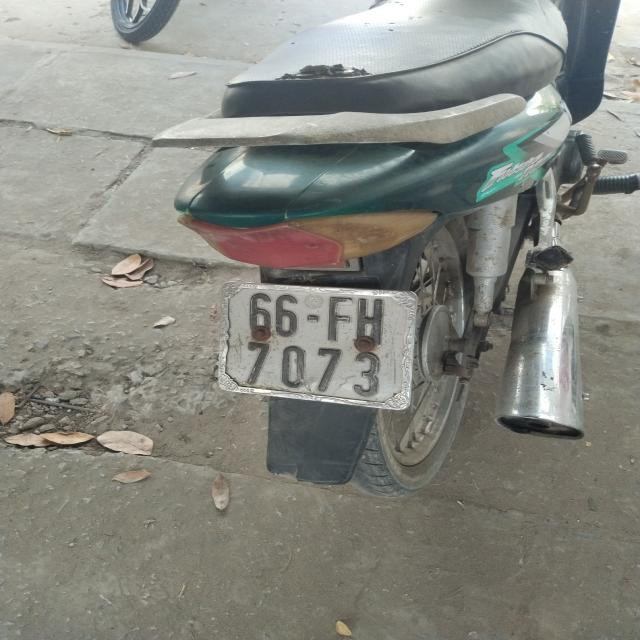0: (282, 344, 305, 389)
3: (354, 352, 380, 398)
6: (246, 292, 273, 340), (275, 291, 297, 340)
7: (247, 342, 271, 388), (317, 348, 341, 393)
F: (326, 297, 352, 343)
H: (356, 300, 384, 347)
